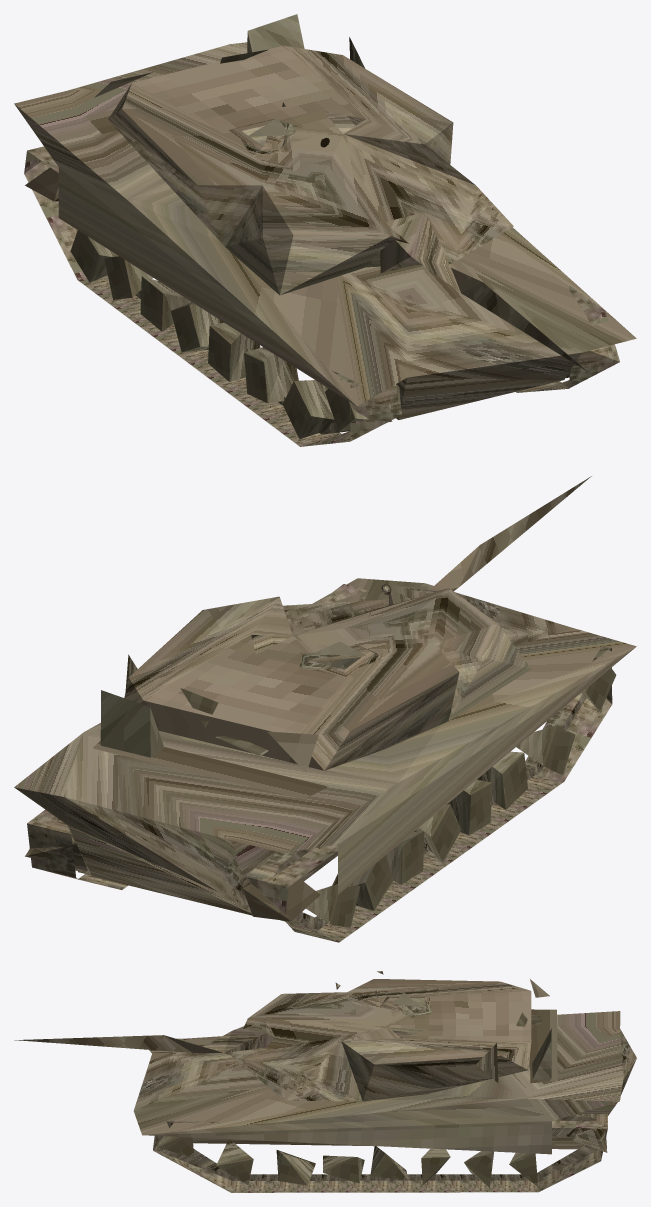
The picture shows the model from 3 angles, top to bottom: view 1: azimuth 30°, elevation 25°; view 2: azimuth 150°, elevation 25°; view 3: azimuth 270°, elevation 25°; orthographic projection. The views are drawn at different scales.
Visible parts, largest first — view 1: Object_2; view 2: Object_2; view 3: Object_2.
Part boxes in pixels (x1,y1,x2,y2): Object_2: [14, 14, 636, 446]; Object_2: [14, 476, 636, 942]; Object_2: [14, 971, 636, 1192].
Size of the model in its own units: 252 by 208 by 709.
Materials: 1 (1 with a texture image).
